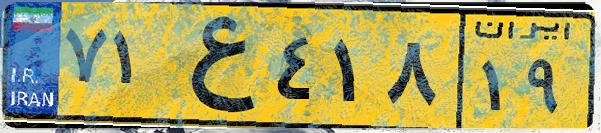1: (330, 28, 385, 110), (475, 38, 525, 113), (110, 28, 158, 98)
4: (270, 28, 330, 110)
7: (57, 26, 110, 100)
8: (385, 28, 445, 110)
9: (525, 38, 570, 115)
ع: (158, 12, 270, 120)
